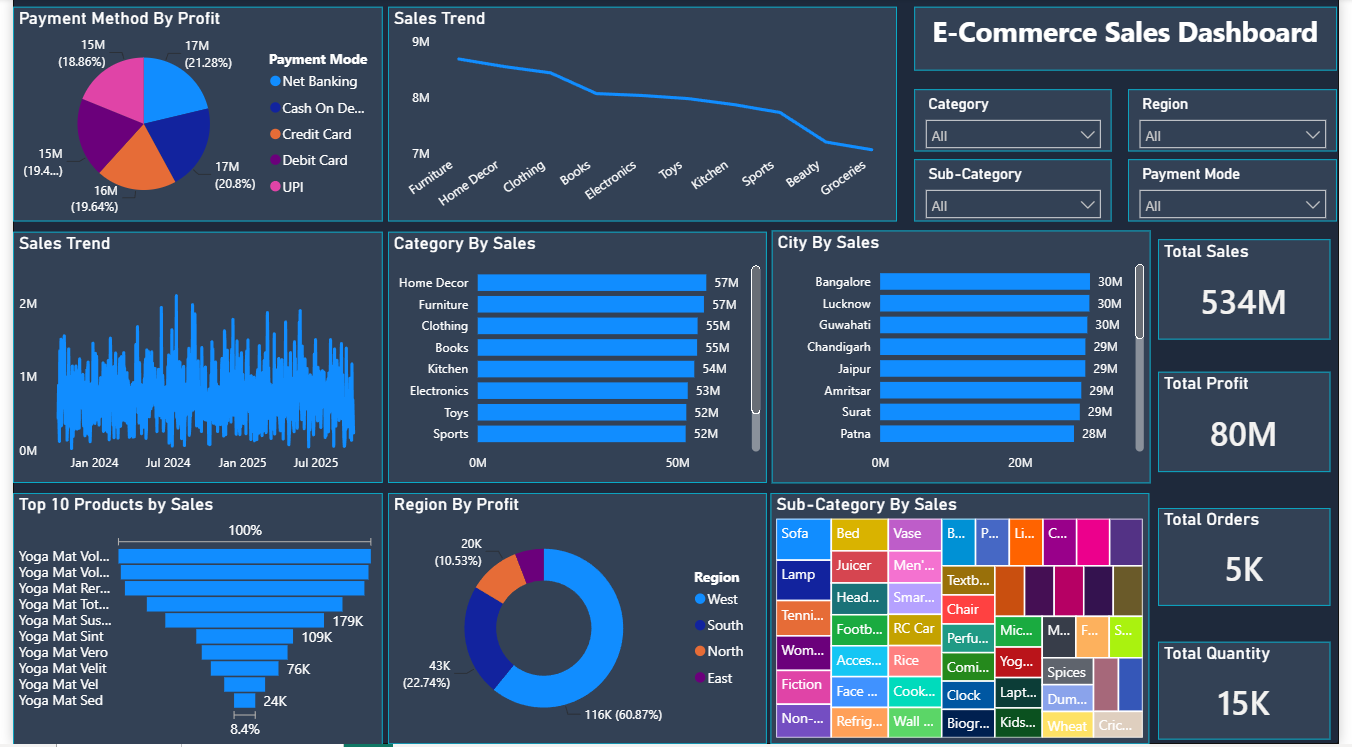

What the dashboard file says about the page in this screenshot:
{"tool":"powerbi","page":{"name":"Dashboard","canvas":[1280,720],"ordinal":0},"visuals":[{"type":"cardVisual","title":"Total Sales","fields":{"Data":["Ecommerce_Sales_Data_2024_20251(E-commerce_Sales).Total Sales"]},"box":[1105.1,232.8,166.5,96.5],"z":0},{"type":"cardVisual","title":"Total Profit","fields":{"Data":["Ecommerce_Sales_Data_2024_20251(E-commerce_Sales).Total Profit"]},"box":[1105.1,360.7,166.5,96.5],"z":1000},{"type":"cardVisual","title":"Total Orders","fields":{"Data":["Ecommerce_Sales_Data_2024_20251(E-commerce_Sales).Total Orders","Ecommerce_Sales_Data_2024_20251(E-commerce_Sales).Total Orders"]},"box":[1105.1,492.2,166.5,94.1],"z":2000},{"type":"cardVisual","title":"Total Quantity","fields":{"Data":["Ecommerce_Sales_Data_2024_20251(E-commerce_Sales).Total Quantity"]},"box":[1105.1,621.3,166.5,94.1],"z":3000},{"type":"lineChart","title":"Sales Trend","fields":{"Y":["Sum(Ecommerce_Sales_Data_2024_20251(E-commerce_Sales).Sales)"],"Category":["Ecommerce_Sales_Data_2024_20251(E-commerce_Sales).Order Date"]},"box":[0,225.6,357.1,242.5],"z":4000},{"type":"clusteredBarChart","title":"Category By Sales","fields":{"Category":["Ecommerce_Sales_Data_2024_20251(E-commerce_Sales).Category"],"Y":["Sum(Ecommerce_Sales_Data_2024_20251(E-commerce_Sales).Sales)"]},"box":[361.9,225.6,365.6,242.5],"z":5000},{"type":"clusteredBarChart","title":"City By Sales","fields":{"Category":["Ecommerce_Sales_Data_2024_20251(E-commerce_Sales).City"],"Y":["Sum(Ecommerce_Sales_Data_2024_20251(E-commerce_Sales).Sales)"]},"box":[732.3,224.4,365.6,243.7],"z":6000},{"type":"funnel","title":"Top 10 Products by Sales","fields":{"Category":["Ecommerce_Sales_Data_2024_20251(E-commerce_Sales).Product Name"],"Y":["Sum(Ecommerce_Sales_Data_2024_20251(E-commerce_Sales).Sales)"]},"box":[0,477.5,356.8,242.9],"z":7000},{"type":"donutChart","title":"Region By Profit","fields":{"Category":["Ecommerce_Sales_Data_2024_20251(E-commerce_Sales).Region"],"Y":["Sum(Ecommerce_Sales_Data_2024_20251(E-commerce_Sales).Profit)"]},"box":[361.9,477.8,365.6,242.5],"z":8000},{"type":"treemap","title":"Sub-Category By Sales","fields":{"Group":["Ecommerce_Sales_Data_2024_20251(E-commerce_Sales).Sub-Category"],"Values":["Sum(Ecommerce_Sales_Data_2024_20251(E-commerce_Sales).Sales)"]},"box":[731.1,477.8,365.6,242.5],"z":9000},{"type":"slicer","fields":{"Values":["Ecommerce_Sales_Data_2024_20251(E-commerce_Sales).Region"]},"box":[1075.8,87.8,201.7,60.4],"z":10000},{"type":"slicer","fields":{"Values":["Ecommerce_Sales_Data_2024_20251(E-commerce_Sales).Sub-Category"]},"box":[870,155.1,190.7,60.4],"z":11000},{"type":"slicer","fields":{"Values":["Ecommerce_Sales_Data_2024_20251(E-commerce_Sales).Category"]},"box":[870,87.8,190.7,60.4],"z":12000},{"type":"slicer","fields":{"Values":["Ecommerce_Sales_Data_2024_20251(E-commerce_Sales).Payment Mode"]},"box":[1075.8,155.1,201.7,60.4],"z":13000},{"type":"pieChart","title":"Payment Method By Profit","fields":{"Category":["Ecommerce_Sales_Data_2024_20251(E-commerce_Sales).Payment Mode"],"Y":["Sum(Ecommerce_Sales_Data_2024_20251(E-commerce_Sales).Profit)"]},"box":[0,8.4,357.1,207.5],"z":14000},{"type":"lineChart","title":"Sales Trend","fields":{"Category":["Ecommerce_Sales_Data_2024_20251(E-commerce_Sales).Category"],"Y":["Sum(Ecommerce_Sales_Data_2024_20251(E-commerce_Sales).Profit)"]},"box":[361.9,8.4,491,207.5],"z":15000},{"type":"textbox","box":[869.8,8.4,407.8,61.5],"z":16000}]}

Visuals, with their boxes in screenshot pixels (x1, y1, x2, y2), scaled from the page's 1280x720 canvas onto the 1352x747 screenshot:
"Total Sales" cardVisual: 1167, 242, 1343, 342
"Total Profit" cardVisual: 1167, 374, 1343, 474
"Total Orders" cardVisual: 1167, 511, 1343, 608
"Total Quantity" cardVisual: 1167, 645, 1343, 742
"Sales Trend" lineChart: 0, 234, 377, 486
"Category By Sales" clusteredBarChart: 382, 234, 768, 486
"City By Sales" clusteredBarChart: 773, 233, 1160, 486
"Top 10 Products by Sales" funnel: 0, 495, 377, 746
"Region By Profit" donutChart: 382, 496, 768, 746
"Sub-Category By Sales" treemap: 772, 496, 1158, 746
slicer - Ecommerce_Sales_Data_2024_20251(E-commerce_Sales).Region: 1136, 91, 1349, 154
slicer - Ecommerce_Sales_Data_2024_20251(E-commerce_Sales).Sub-Category: 919, 161, 1120, 224
slicer - Ecommerce_Sales_Data_2024_20251(E-commerce_Sales).Category: 919, 91, 1120, 154
slicer - Ecommerce_Sales_Data_2024_20251(E-commerce_Sales).Payment Mode: 1136, 161, 1349, 224
"Payment Method By Profit" pieChart: 0, 9, 377, 224
"Sales Trend" lineChart: 382, 9, 901, 224
textbox: 919, 9, 1349, 73
